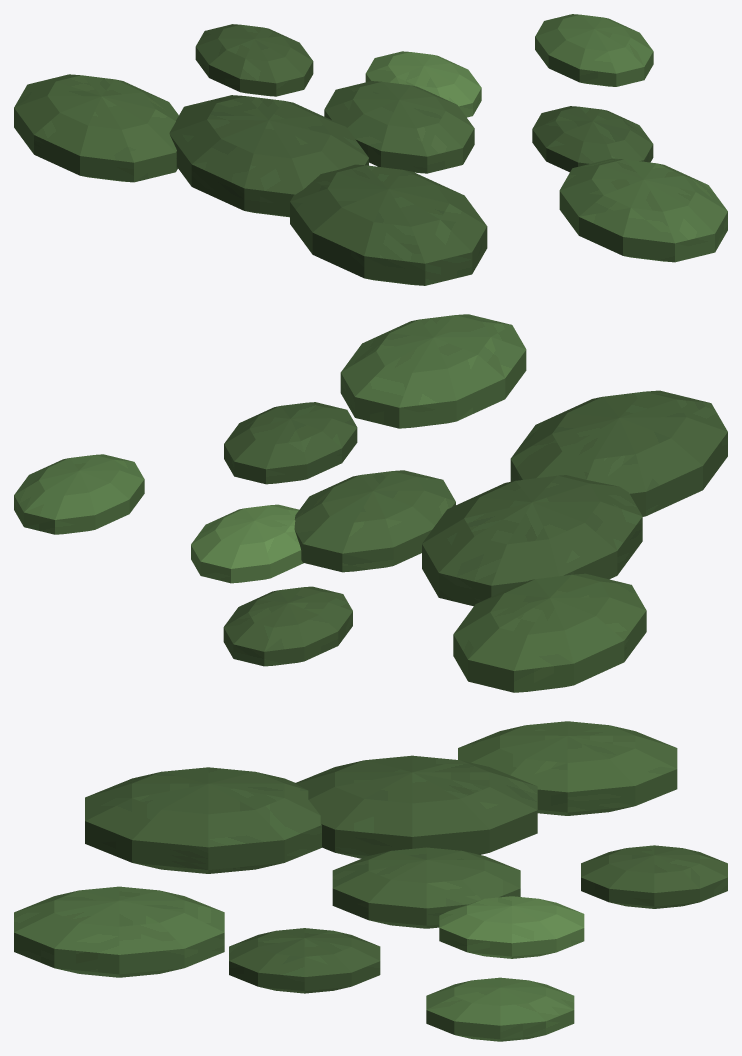
File: seed_thyme.glb
The picture shows the model from 3 angles, top to bottom: view 1: azimuth 30°, elevation 25°; view 2: azimuth 150°, elevation 25°; view 3: azimuth 270°, elevation 25°; orthographic projection. The views are drawn at different scales.
Parts seen in each view (by area): view 1: block_grain 5, block_grain 2, block_grain 7, block_grain 8, block_grain 0, block_grain 6, block_grain 4, block_grain 3, block_grain 1; view 2: block_grain 2, block_grain 5, block_grain 7, block_grain 8, block_grain 0, block_grain 3, block_grain 6, block_grain 4, block_grain 1; view 3: block_grain 5, block_grain 2, block_grain 8, block_grain 7, block_grain 0, block_grain 3, block_grain 6, block_grain 4, block_grain 1.
Part boxes in pixels (x1=…): block_grain 5: x1=290, y1=164, x2=487, y2=285; block_grain 2: x1=169, y1=95, x2=368, y2=217; block_grain 7: x1=14, y1=74, x2=178, y2=182; block_grain 8: x1=559, y1=158, x2=727, y2=262; block_grain 0: x1=324, y1=81, x2=474, y2=173; block_grain 6: x1=535, y1=14, x2=653, y2=86; block_grain 4: x1=195, y1=24, x2=313, y2=96; block_grain 3: x1=532, y1=106, x2=653, y2=172; block_grain 1: x1=365, y1=51, x2=481, y2=117; block_grain 2: x1=422, y1=475, x2=642, y2=606; block_grain 5: x1=510, y1=390, x2=727, y2=516; block_grain 7: x1=453, y1=573, x2=646, y2=692; block_grain 8: x1=340, y1=314, x2=526, y2=428; block_grain 0: x1=294, y1=470, x2=455, y2=572; block_grain 3: x1=224, y1=402, x2=357, y2=484; block_grain 6: x1=14, y1=454, x2=144, y2=534; block_grain 4: x1=223, y1=586, x2=352, y2=666; block_grain 1: x1=191, y1=504, x2=303, y2=583; block_grain 5: x1=85, y1=767, x2=321, y2=873; block_grain 2: x1=295, y1=755, x2=537, y2=858; block_grain 8: x1=14, y1=886, x2=224, y2=977; block_grain 7: x1=458, y1=721, x2=677, y2=815; block_grain 0: x1=332, y1=847, x2=520, y2=928; block_grain 3: x1=229, y1=928, x2=380, y2=993; block_grain 6: x1=426, y1=977, x2=574, y2=1041; block_grain 4: x1=581, y1=845, x2=727, y2=908; block_grain 1: x1=439, y1=896, x2=584, y2=958.
Size of the model in its own units: 0.021 by 0.00255 by 0.022.
Materials: 1 (1 with a texture image).
